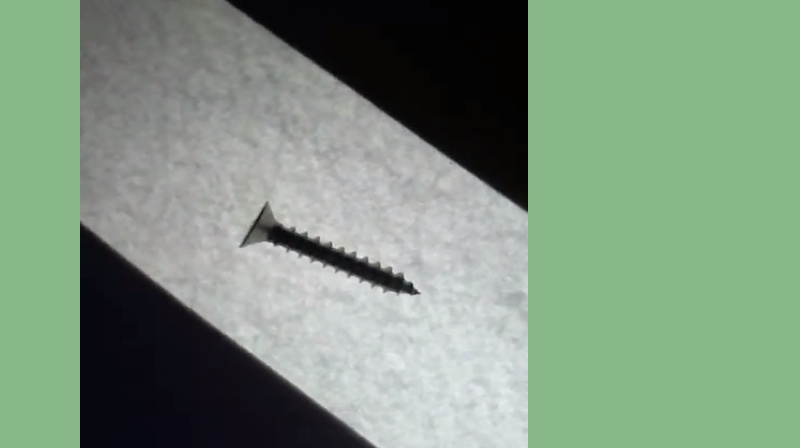S001: (236, 197, 422, 298)
